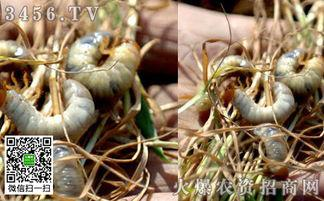grub: (221, 79, 303, 126)
